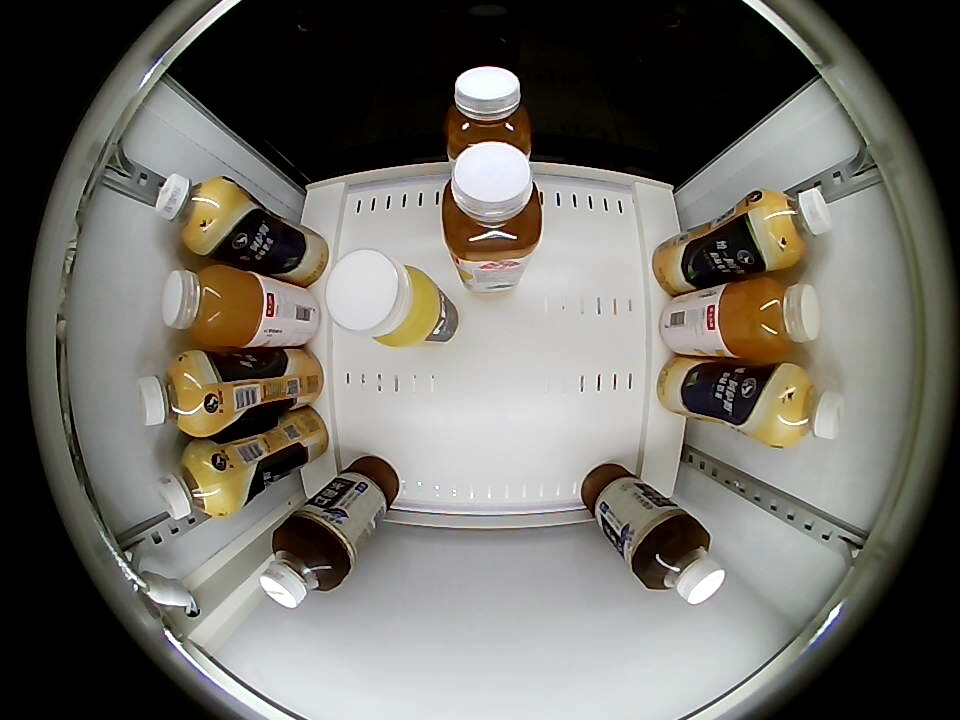asamu: (136, 352, 217, 435), (765, 364, 844, 448), (751, 187, 832, 266), (155, 173, 235, 250), (157, 446, 231, 520)
chapai: (442, 142, 542, 265), (445, 66, 532, 164)
nfc: (325, 248, 443, 348)
weic: (160, 264, 266, 348), (718, 277, 821, 361)
wulongcha: (635, 515, 726, 606), (258, 520, 347, 609)
